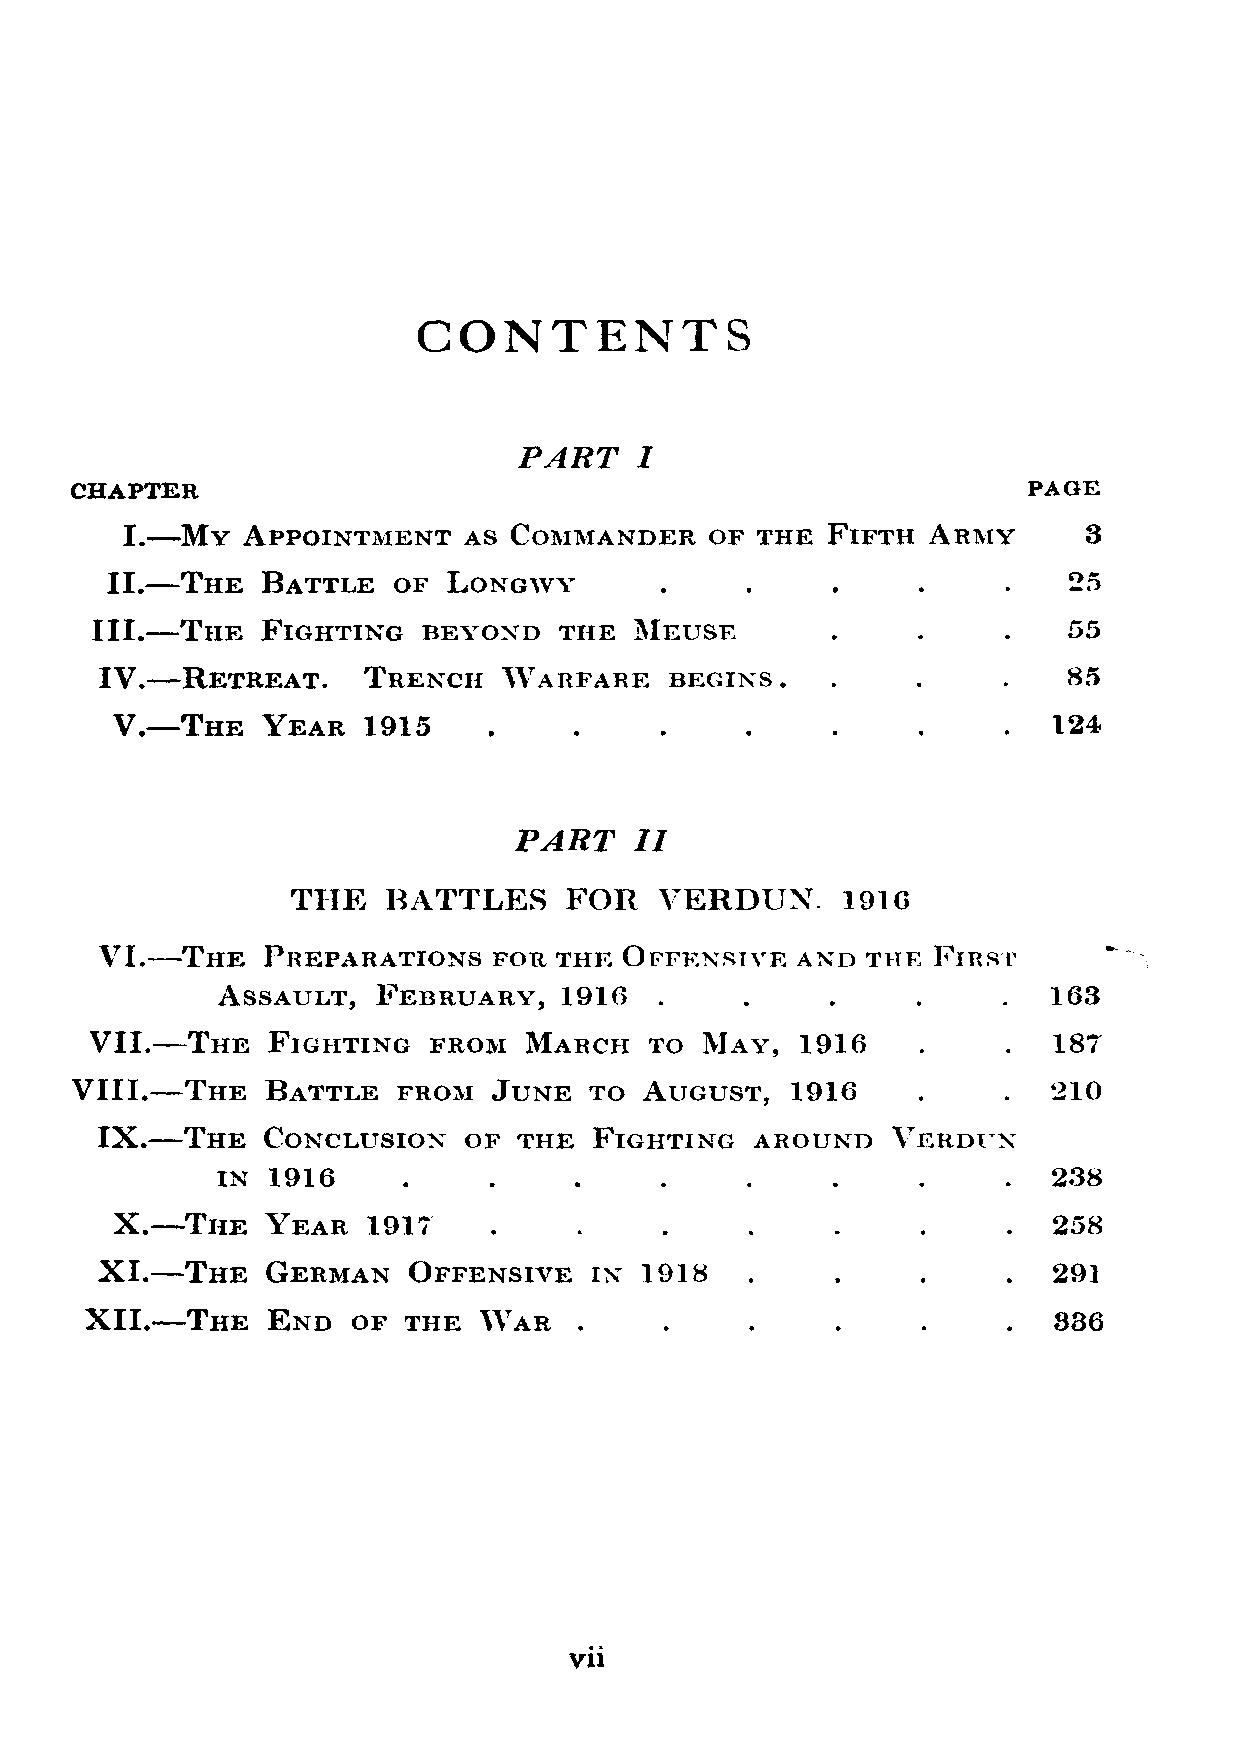TOC_chapter: (94, 938, 1021, 1009), (94, 1121, 1017, 1189), (287, 823, 917, 913), (68, 1074, 858, 1106), (118, 518, 1019, 546), (86, 1025, 870, 1057), (89, 611, 743, 644), (93, 660, 772, 691), (97, 1252, 707, 1284), (78, 1303, 554, 1333), (103, 568, 578, 595), (111, 709, 433, 741), (111, 1206, 435, 1237), (513, 442, 658, 475)
TOC_pagenumber: (1049, 1256, 1104, 1287), (1049, 1159, 1104, 1189), (1049, 1307, 1104, 1335), (1049, 1210, 1104, 1237), (1045, 981, 1103, 1007), (1049, 1027, 1103, 1053), (1049, 1076, 1102, 1102), (1049, 713, 1103, 735), (1064, 564, 1103, 593), (1066, 613, 1102, 644), (1066, 663, 1100, 687), (1082, 521, 1104, 546)
chapter: (413, 315, 752, 356)
content_pagenumber: (561, 1641, 612, 1669)
